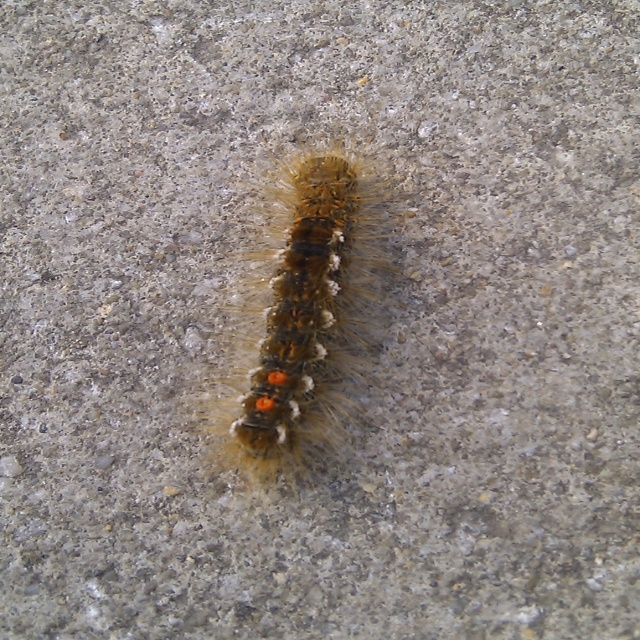Caterpillar: (194, 142, 400, 493)
